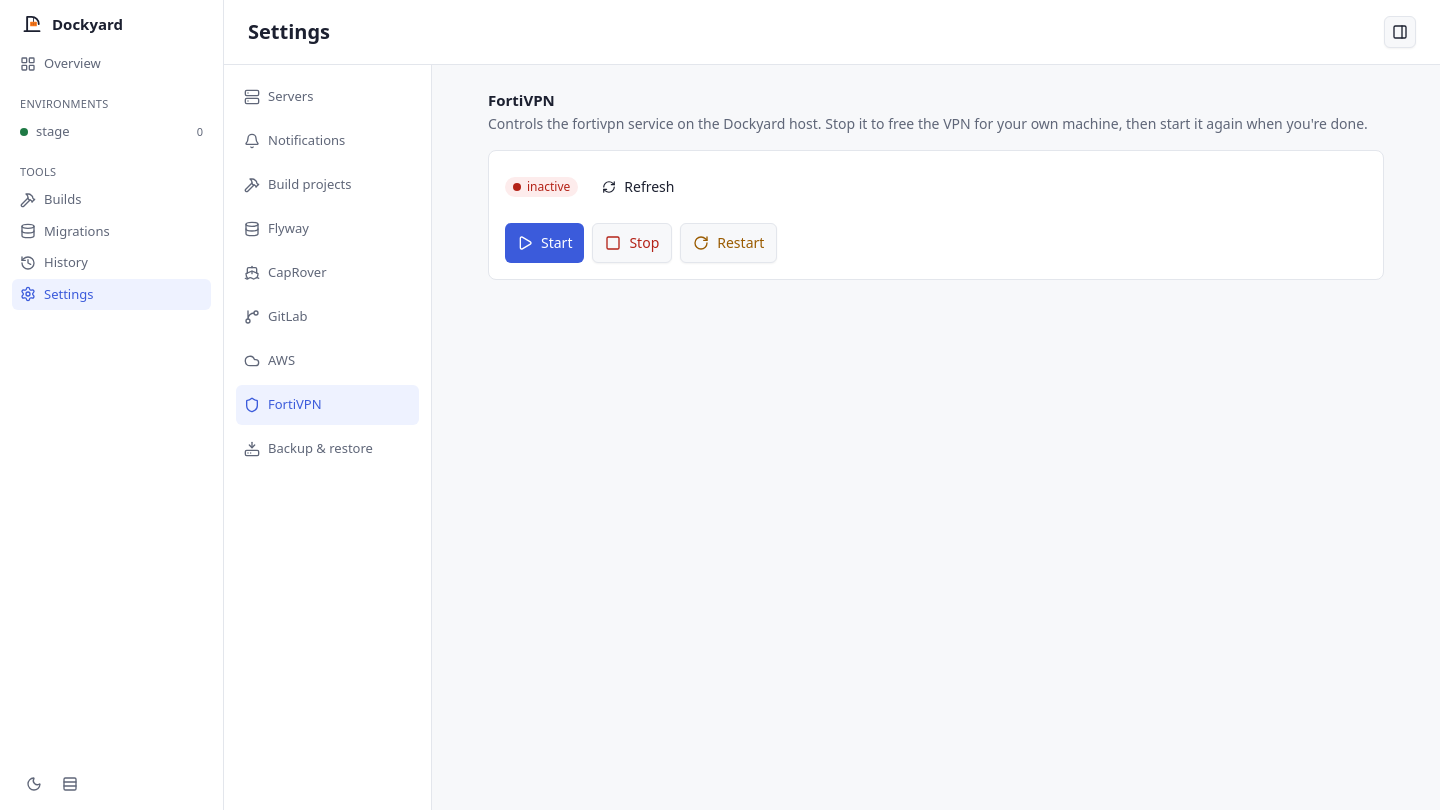
Test case: Settings › runs VPN actions and shows their output
Expected: the text "inactive" is shown, [505,176,578,196]
Click the button "Start" at (545, 242), box [505,222,584,262]
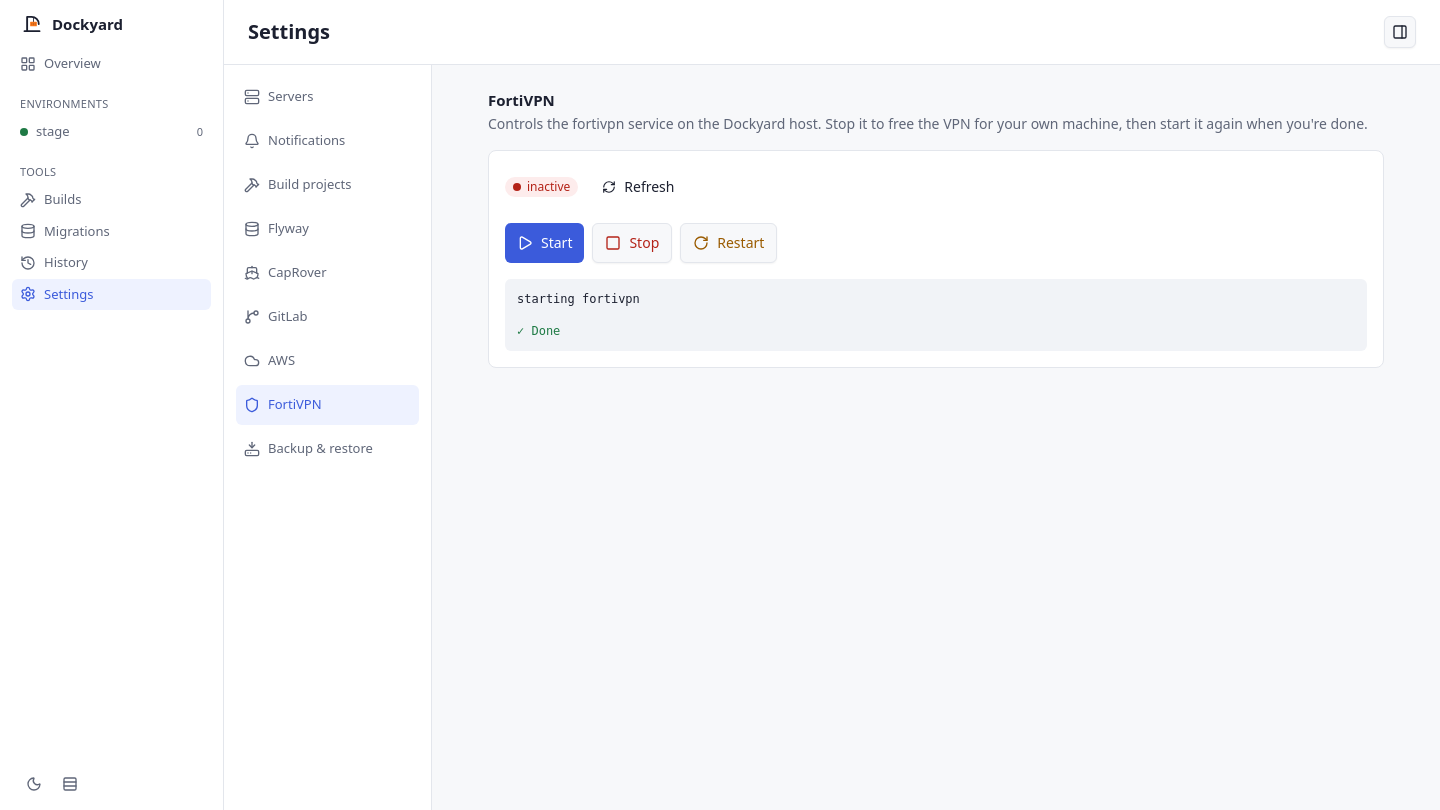
Expected: the element named "VPN output" reads "starting fortivpn ✓ Done", [505,278,1367,350]
